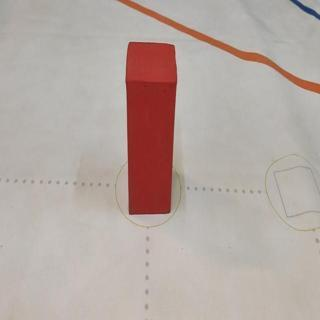redbox: (127, 45, 173, 213)
